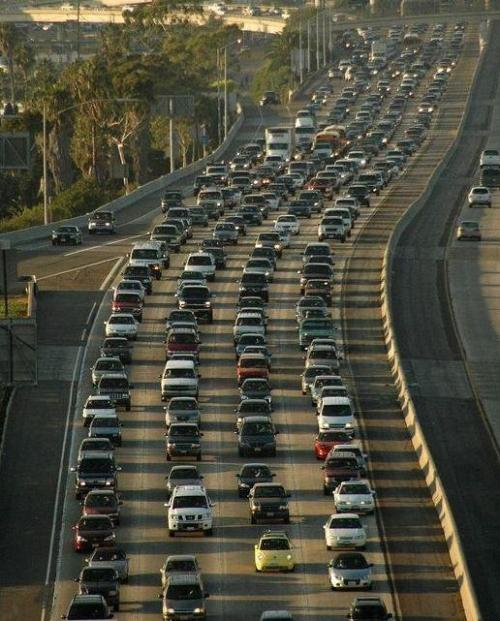car: (158, 576, 210, 621), (252, 530, 296, 573), (238, 376, 274, 408), (182, 251, 217, 279), (241, 256, 275, 282)
suv: (163, 486, 218, 534), (245, 483, 295, 522), (157, 359, 203, 401)
truck: (263, 126, 297, 172), (370, 36, 397, 69)
